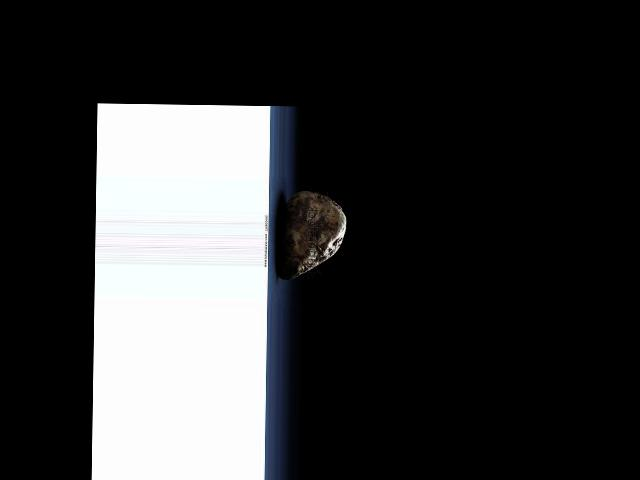beet: (278, 189, 345, 279)
